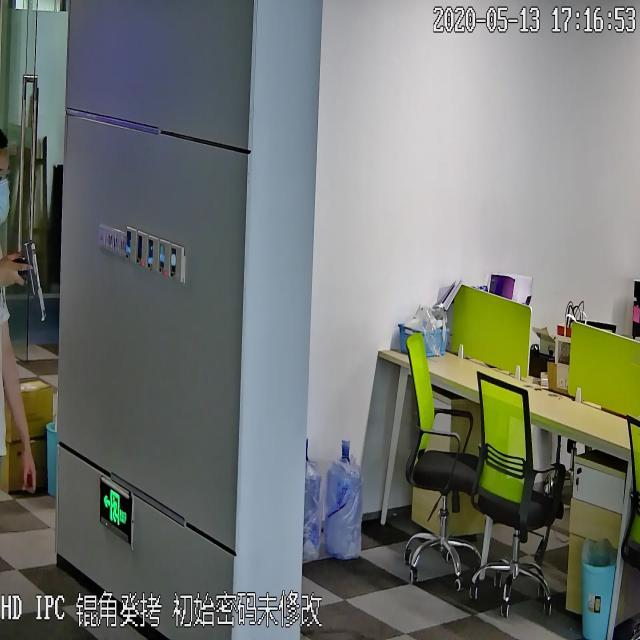gun: (10, 238, 46, 326)
